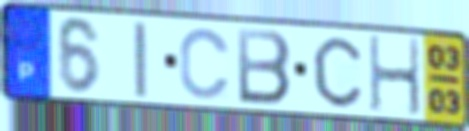6: (56, 15, 107, 97)
B: (234, 26, 294, 108)
C: (177, 26, 233, 102), (310, 35, 365, 110)
H: (366, 33, 423, 118)
I: (130, 20, 150, 100)
